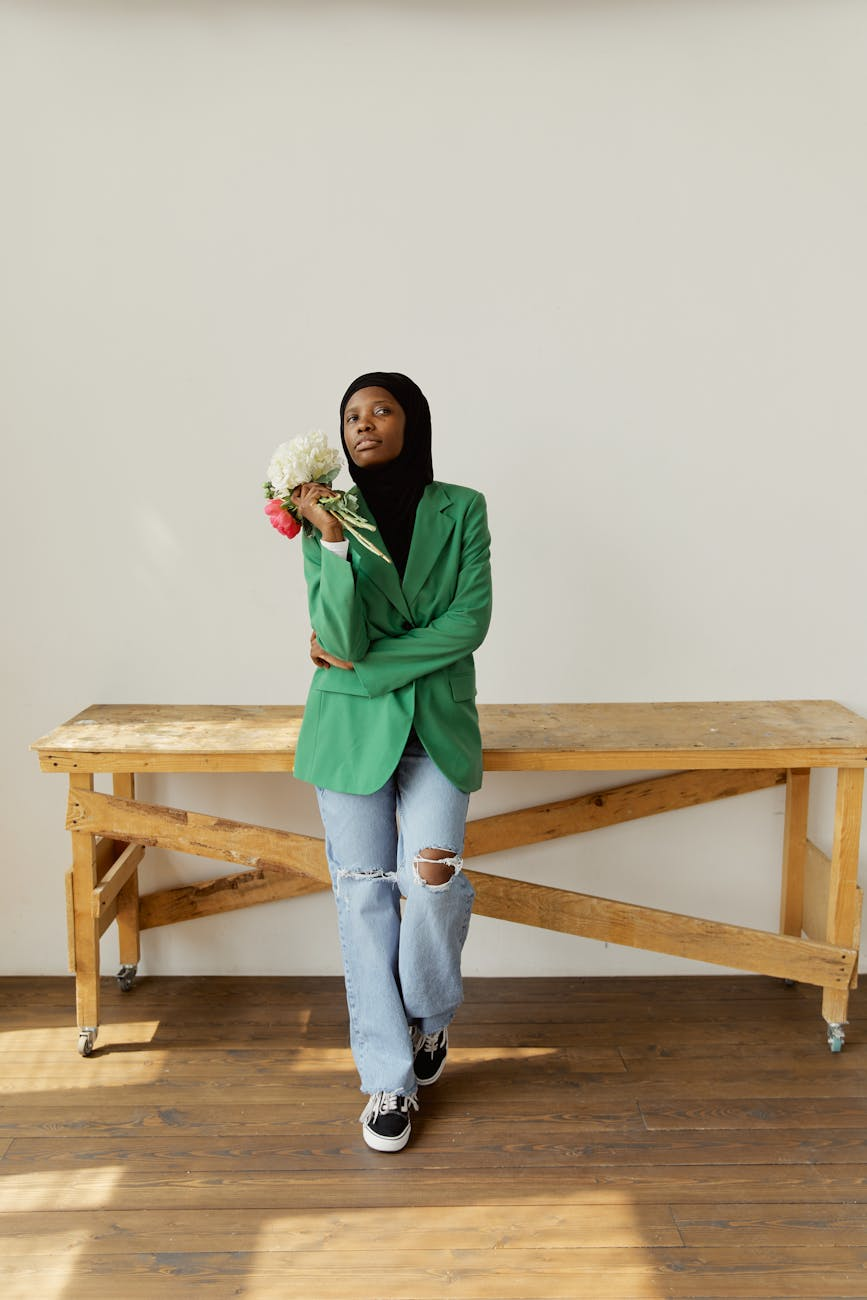ripped_jeans: (312, 763, 483, 1081)
